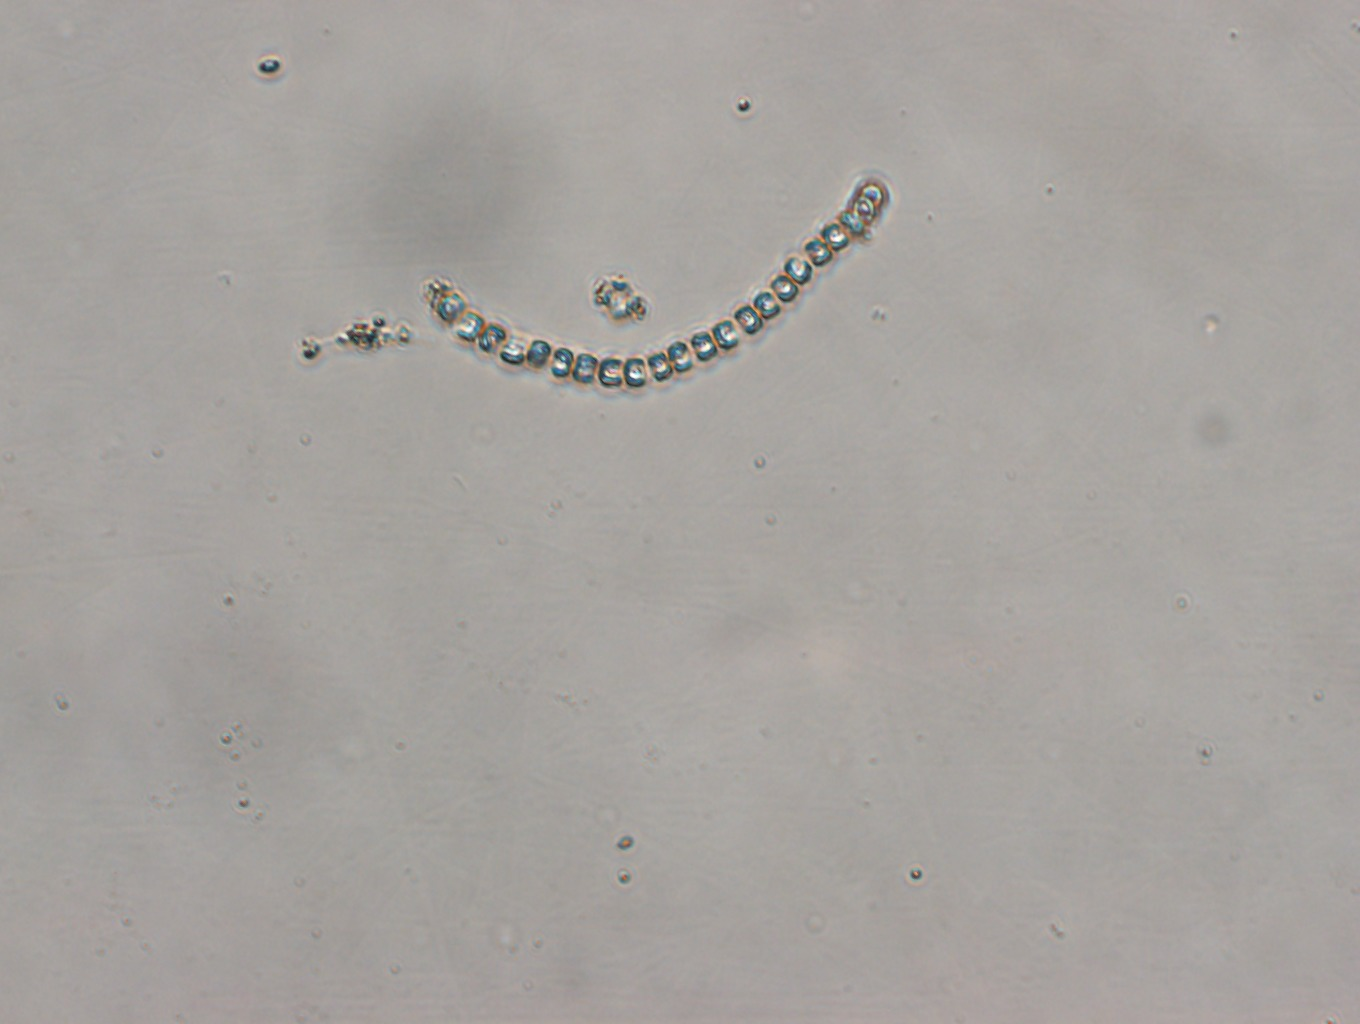skeletonema: (421, 163, 893, 398)
